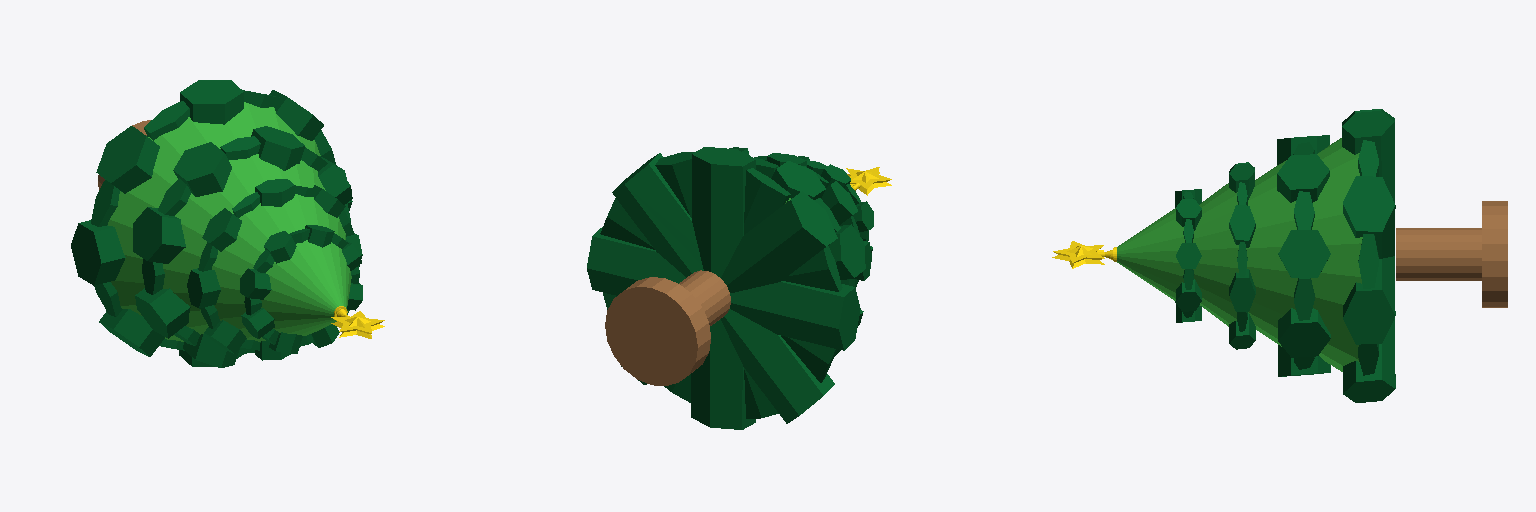
The model's file is tinker.obj.
3 renders of one model, left to right at view 1: azimuth 30°, elevation 25°; view 2: azimuth 150°, elevation 25°; view 3: azimuth 270°, elevation 25°, orthographic.
Visible parts, largest first — view 1: obj_0; view 2: obj_0; view 3: obj_0.
Boxes of the visible parts, x1,y1,x2,y2 form: obj_0: [71, 80, 384, 367]; obj_0: [587, 147, 891, 429]; obj_0: [1052, 109, 1507, 402].
Size of the model in its own units: 55 by 55 by 85.